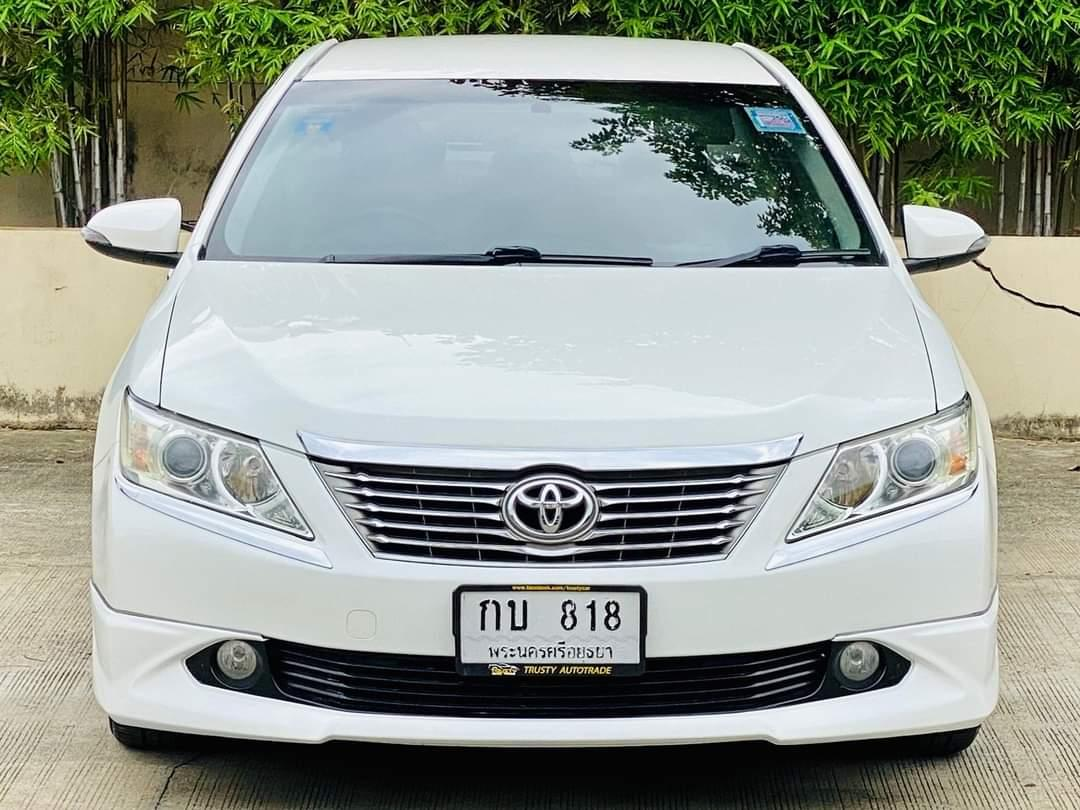license-plate: (449, 581, 647, 681)
